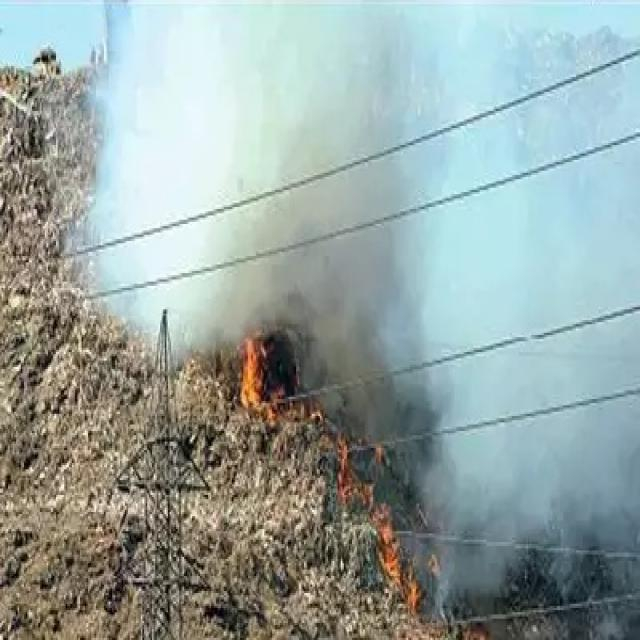Fire: (237, 339, 270, 416)
Smoke: (66, 0, 640, 353), (345, 22, 638, 611)
